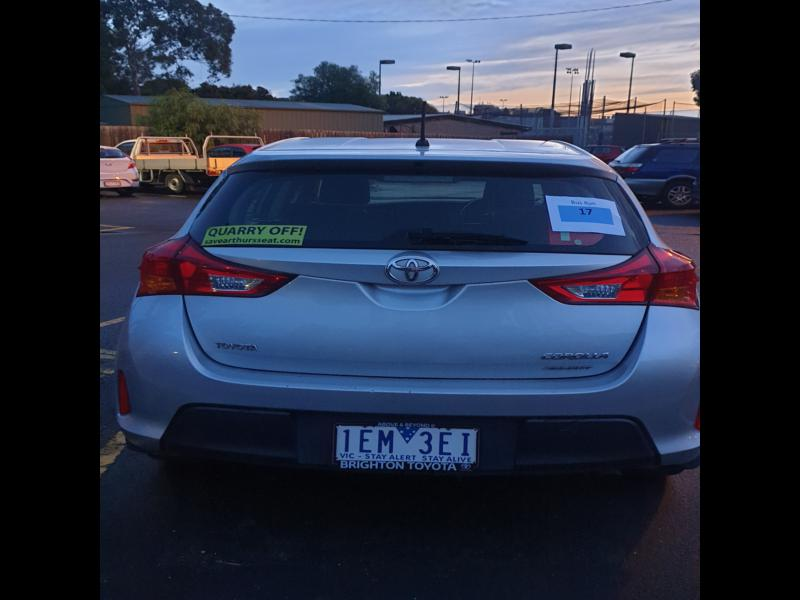BusRun: (561, 205, 613, 223)
PlateNo: (337, 426, 474, 463)
